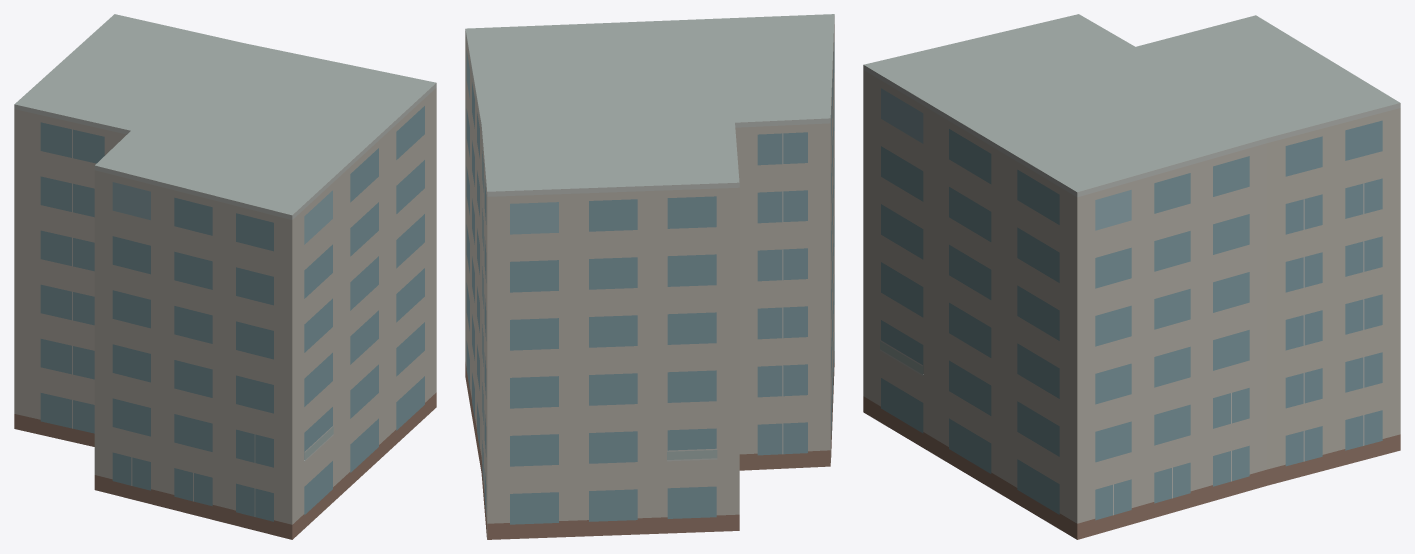
The model's file is survey-upis-32584897.glb.
The picture shows the model from 3 angles, left to right: view 1: azimuth 30°, elevation 25°; view 2: azimuth 150°, elevation 25°; view 3: azimuth 270°, elevation 25°; orthographic projection. The views are drawn at different scales.
Visible parts, largest first — view 1: survey-upis-32584897.tmp; view 2: survey-upis-32584897.tmp; view 3: survey-upis-32584897.tmp.
Boxes of the visible parts, x1,y1,x2,y2 form: survey-upis-32584897.tmp: (14,14,436,539); survey-upis-32584897.tmp: (465,14,834,539); survey-upis-32584897.tmp: (863,14,1400,539).
Bounding box in the file's own units: 18.49 × 16.8 × 23.54.
